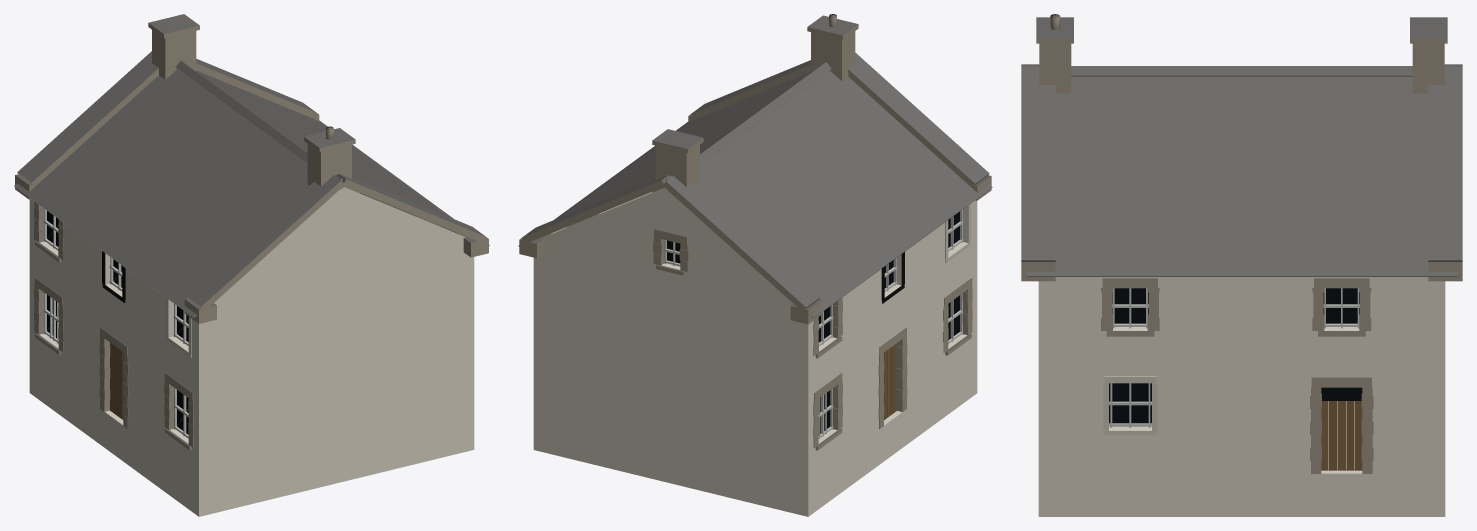
The model's file is context.dales.house_11.glb.
3 renders of one model, left to right at view 1: azimuth 30°, elevation 25°; view 2: azimuth 150°, elevation 25°; view 3: azimuth 270°, elevation 25°, orthographic. The views are drawn at different scales.
Parts seen in each view (by area): view 1: main__render_ddc, main__slate_666, main__stone_a98, main__paint_ccc, main__glass_dark, main__paint_764; view 2: main__render_ddc, main__slate_666, main__stone_a98, main__paint_ccc, main__glass_dark; view 3: main__slate_666, main__render_ddc, main__stone_a98, main__glass_dark, main__paint_764, main__paint_ccc, main__paint_ccb, main__paint_864.
Part boxes in pixels (x1,y1,x2,y2): main__render_ddc: (29,187,474,516); main__slate_666: (14,14,488,446); main__stone_a98: (14,23,489,450); main__paint_ccc: (43,208,188,438); main__glass_dark: (47,211,188,434); main__paint_764: (110,343,119,417); main__render_ddc: (533,187,977,516); main__slate_666: (520,14,992,446); main__stone_a98: (518,16,991,450); main__paint_ccc: (664,209,963,438); main__glass_dark: (667,211,959,433); main__slate_666: (1021,14,1462,461); main__render_ddc: (1038,277,1445,516); main__stone_a98: (1021,16,1462,473); main__glass_dark: (1109,288,1362,423); main__paint_764: (1329,401,1362,470); main__paint_ccc: (1109,288,1359,427); main__paint_ccb: (1103,376,1157,435); main__paint_864: (1321,401,1345,470).
Size of the model in its own units: 8.61 by 9.72 by 9.25.
